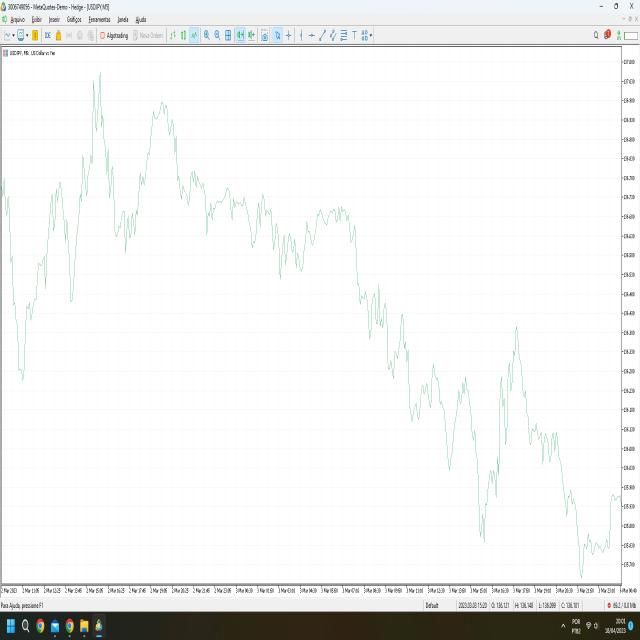bandeira_baixa: (514, 310, 566, 472), (349, 186, 391, 343)
oco: (67, 60, 122, 242)
oco_inv: (432, 333, 516, 562)
